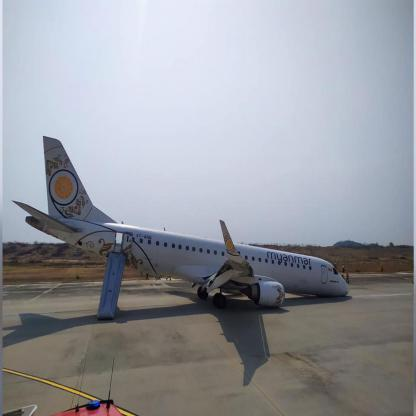CIV_Plane: (9, 130, 357, 331)
